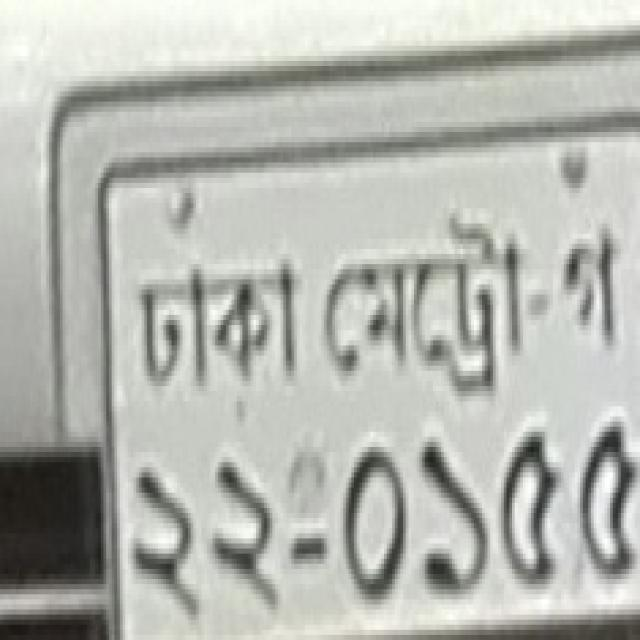numberplate: (21, 28, 638, 637)
